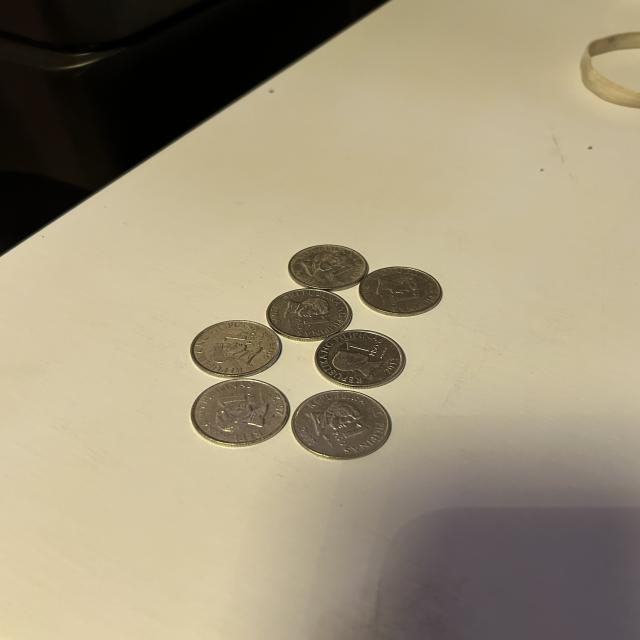1_Old_Front: (210, 393, 265, 411), (221, 328, 264, 351), (332, 423, 372, 446), (342, 339, 384, 358), (324, 262, 356, 286), (385, 291, 420, 312), (294, 315, 331, 330)
